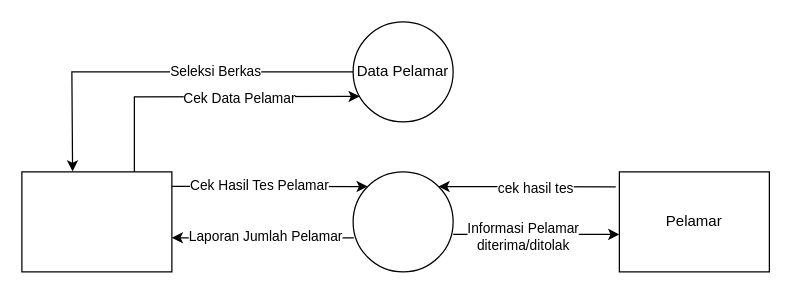
Some shapes in this 791 by 294 pixel diagram are drawn without their labels. Each missing label, with the centre of its shape:
"Hasil Tes" goes at (x=402, y=221).
"Warek" goes at (x=96, y=221).
